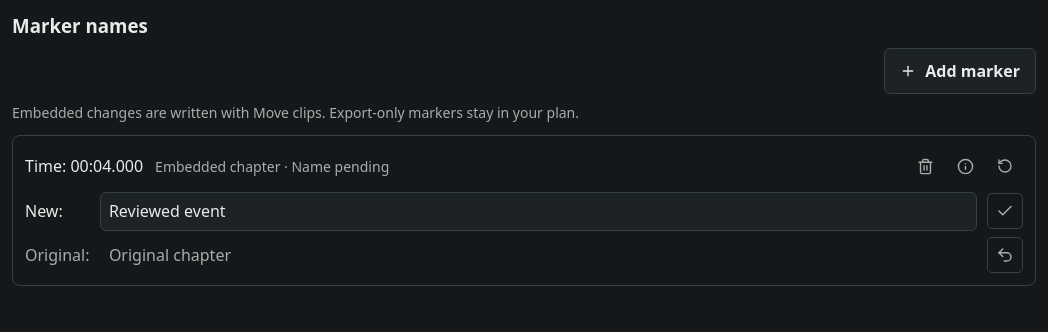
Test case: compares New above Original with icon actions and reasoning available on demand
Expected: the text "Time:" is shown, [25,155,70,177]
Expected: the button named "Accept name for marker chapter-1" is empty, [987,194,1023,230]
Click the button named "Why this name for marker chapter-1?". click: coordinates (965, 166)
box: [947,148,983,184]
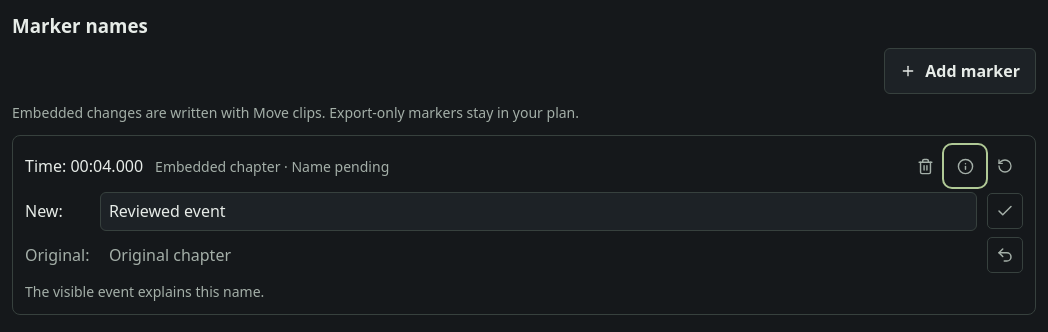
Click the button named "Accept name for marker chapter-1". click: coordinates (1005, 212)
box: [987,194,1023,230]
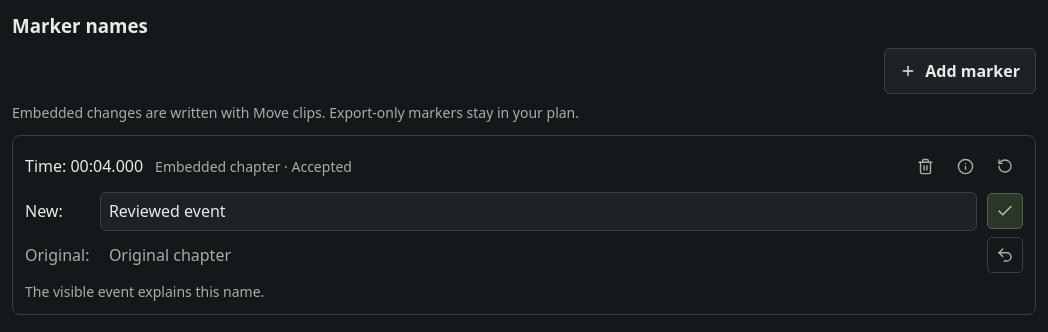
Result: the button named "Accept name for marker chapter-1" is pressed at [987,194,1023,230]
Click the button named "Keep original for marker chapter-1". click: coordinates (1005, 255)
box: [987,237,1023,273]
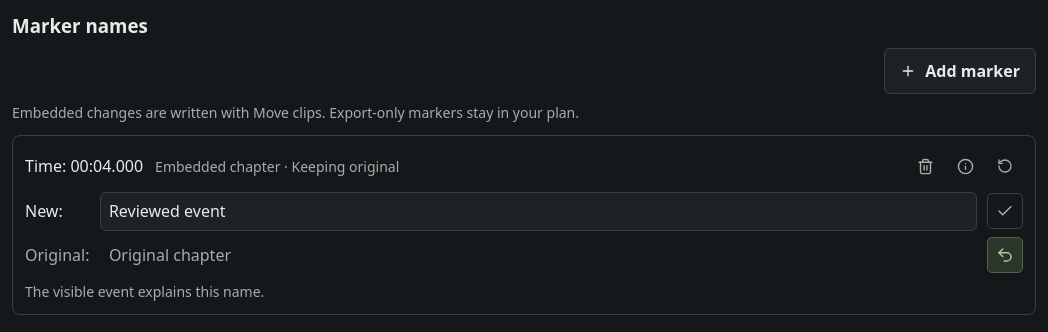
Expected: the field named "New marker name chapter-1 for clip 1" holds "Reviewed event", [100,192,977,231]
Result: the text "Embedded chapter · Keeping original" is shown at [155,156,399,177]
Click the button named "Reset marker chapter-1". click: coordinates (1005, 166)
box: [987,148,1023,184]
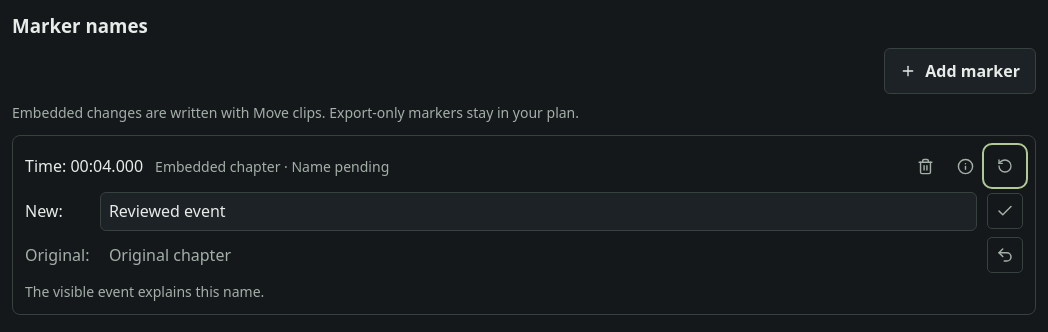
Result: the text "Embedded chapter · Name pending" is shown at [155,156,389,177]
